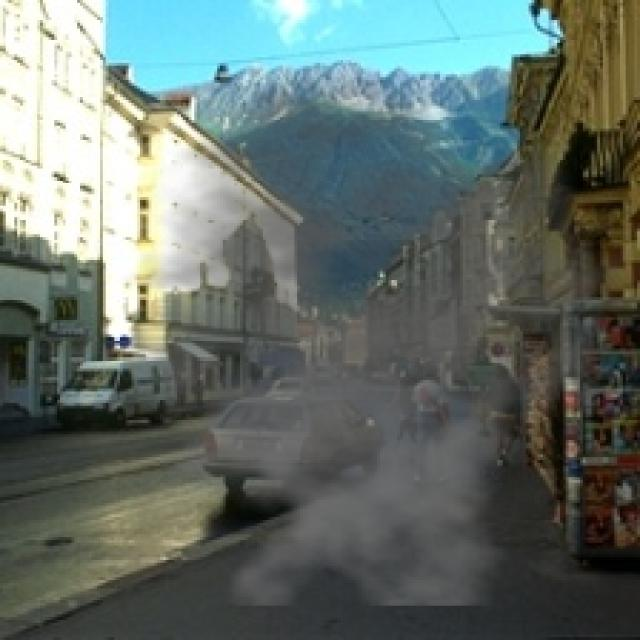smoke: (77, 74, 632, 606)
